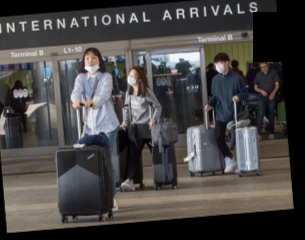mask_weared_incorrect: (82, 53, 98, 75)
with_mask: (126, 70, 139, 89), (213, 59, 226, 74)
without_mask: (259, 62, 268, 72)
